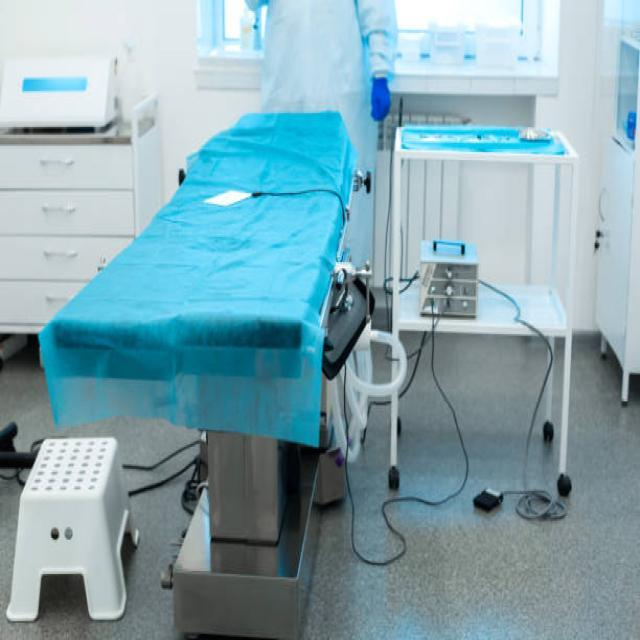bed: (65, 85, 368, 640)
stool: (3, 427, 144, 625)
tools_table: (387, 109, 580, 512)
